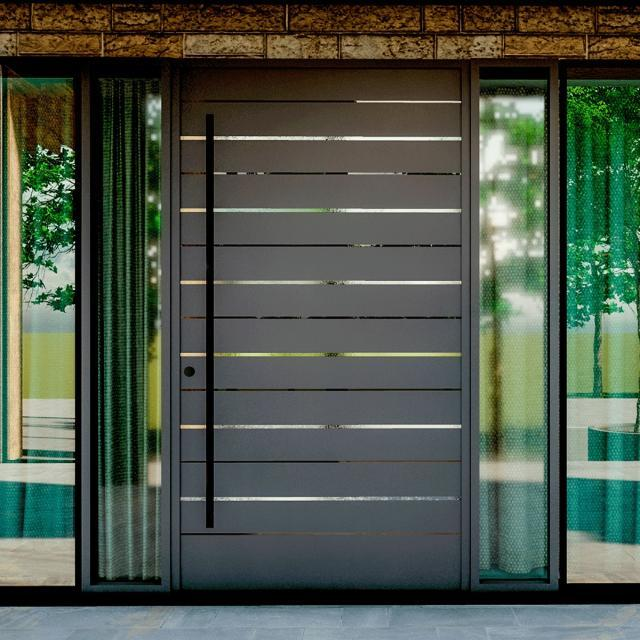door: (175, 62, 470, 592)
